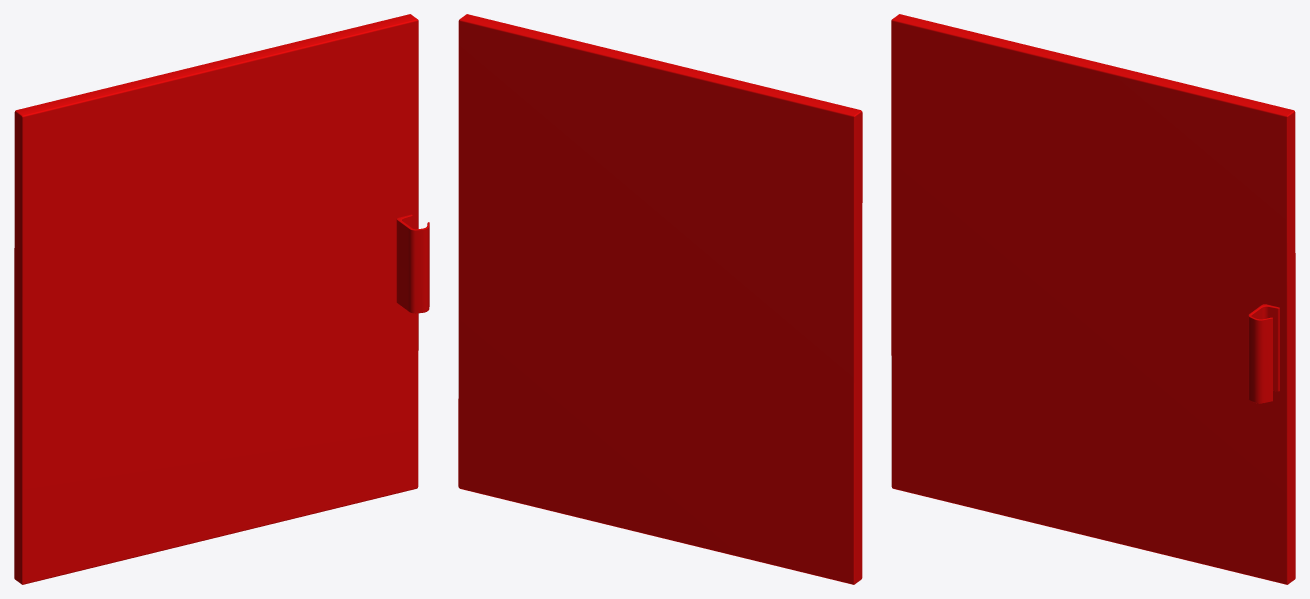
The model's file is Medical_cabinet_1_3.fbx.
The picture shows the model from 3 angles, left to right: view 1: azimuth 30°, elevation 25°; view 2: azimuth 150°, elevation 25°; view 3: azimuth 330°, elevation 25°; orthographic projection.
Visible parts, largest first — view 1: L4:polySurface659; view 2: L4:polySurface659; view 3: L4:polySurface659.
Boxes of the visible parts, x1=… form: L4:polySurface659: x1=14, y1=14, x2=429, y2=584; L4:polySurface659: x1=458, y1=14, x2=862, y2=584; L4:polySurface659: x1=891, y1=14, x2=1295, y2=584.
Bounding box in the file's own units: 59.01 × 66.75 × 7.04.
